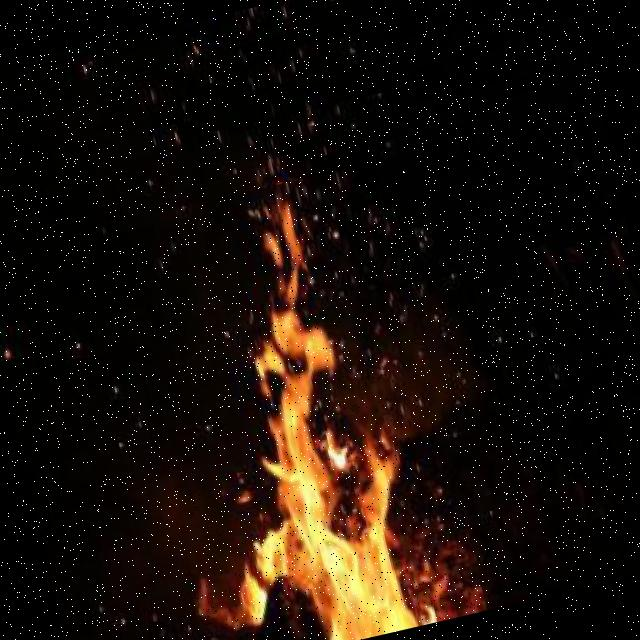fire: (105, 160, 486, 640)
